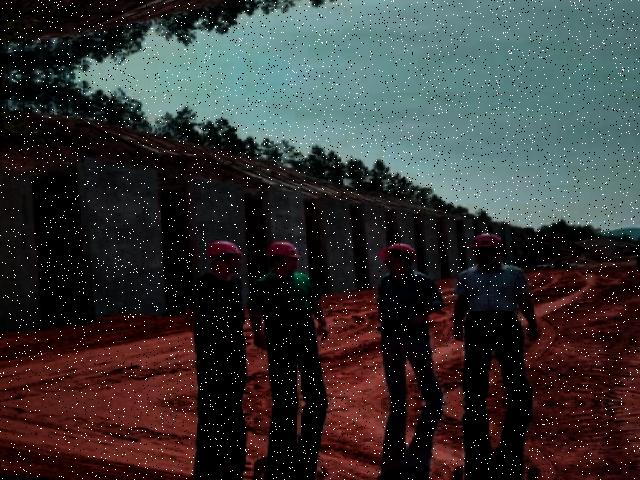Helmet: (258, 236, 301, 264), (373, 240, 421, 264), (200, 236, 243, 262), (464, 231, 506, 254)
